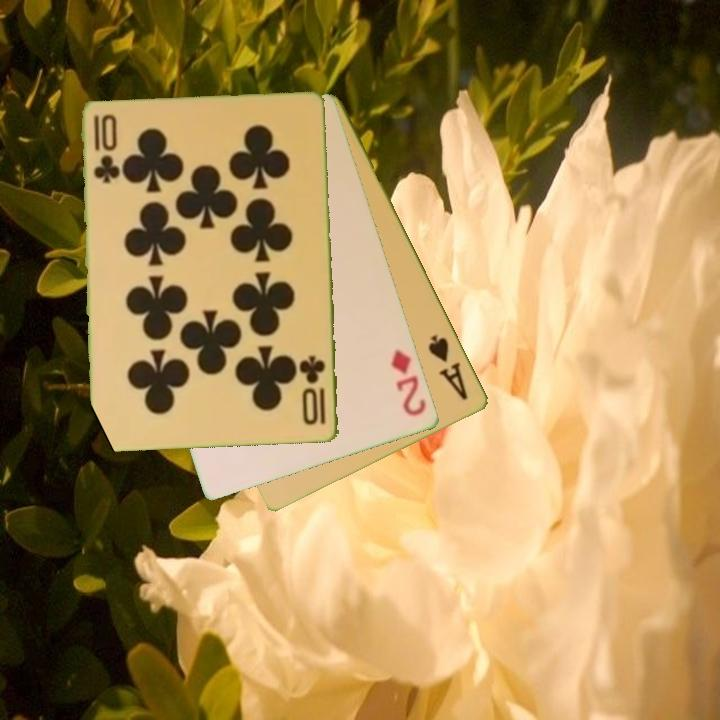10c: (298, 352, 329, 429), (90, 111, 119, 187)
2d: (388, 346, 430, 420)
As: (425, 331, 472, 403)
